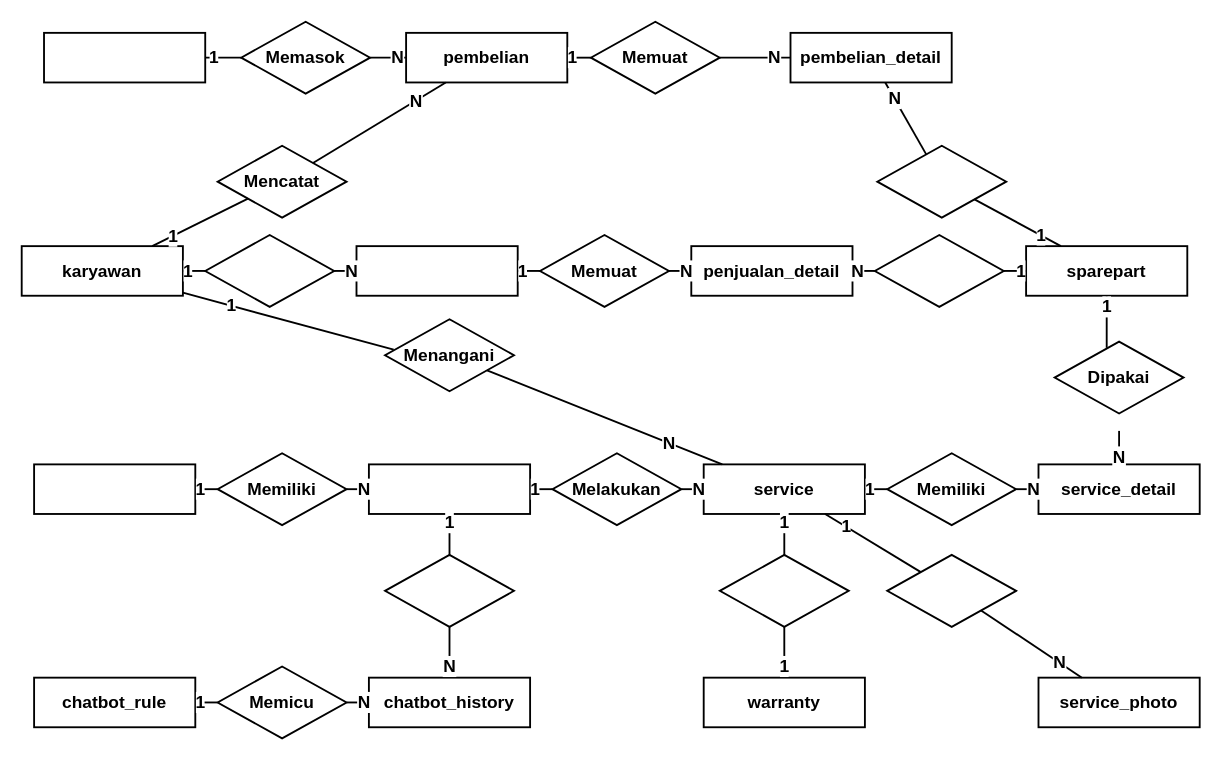
Image size: 1223x761. Some labels were removed from this diagram. The shapes that lost their labels are listed below. From the top down, each one's centre as x and y in pixels, then its label:
the point at 124,57: distributor
the point at 941,181: Dibeli
the point at 269,270: Melayani
the point at 436,270: penjualan
the point at 938,270: Dijual
the point at 114,488: pelanggan
the point at 448,488: kendaraan
the point at 449,590: Tercatat
the point at 783,590: Garansi
the point at 951,590: Difoto
